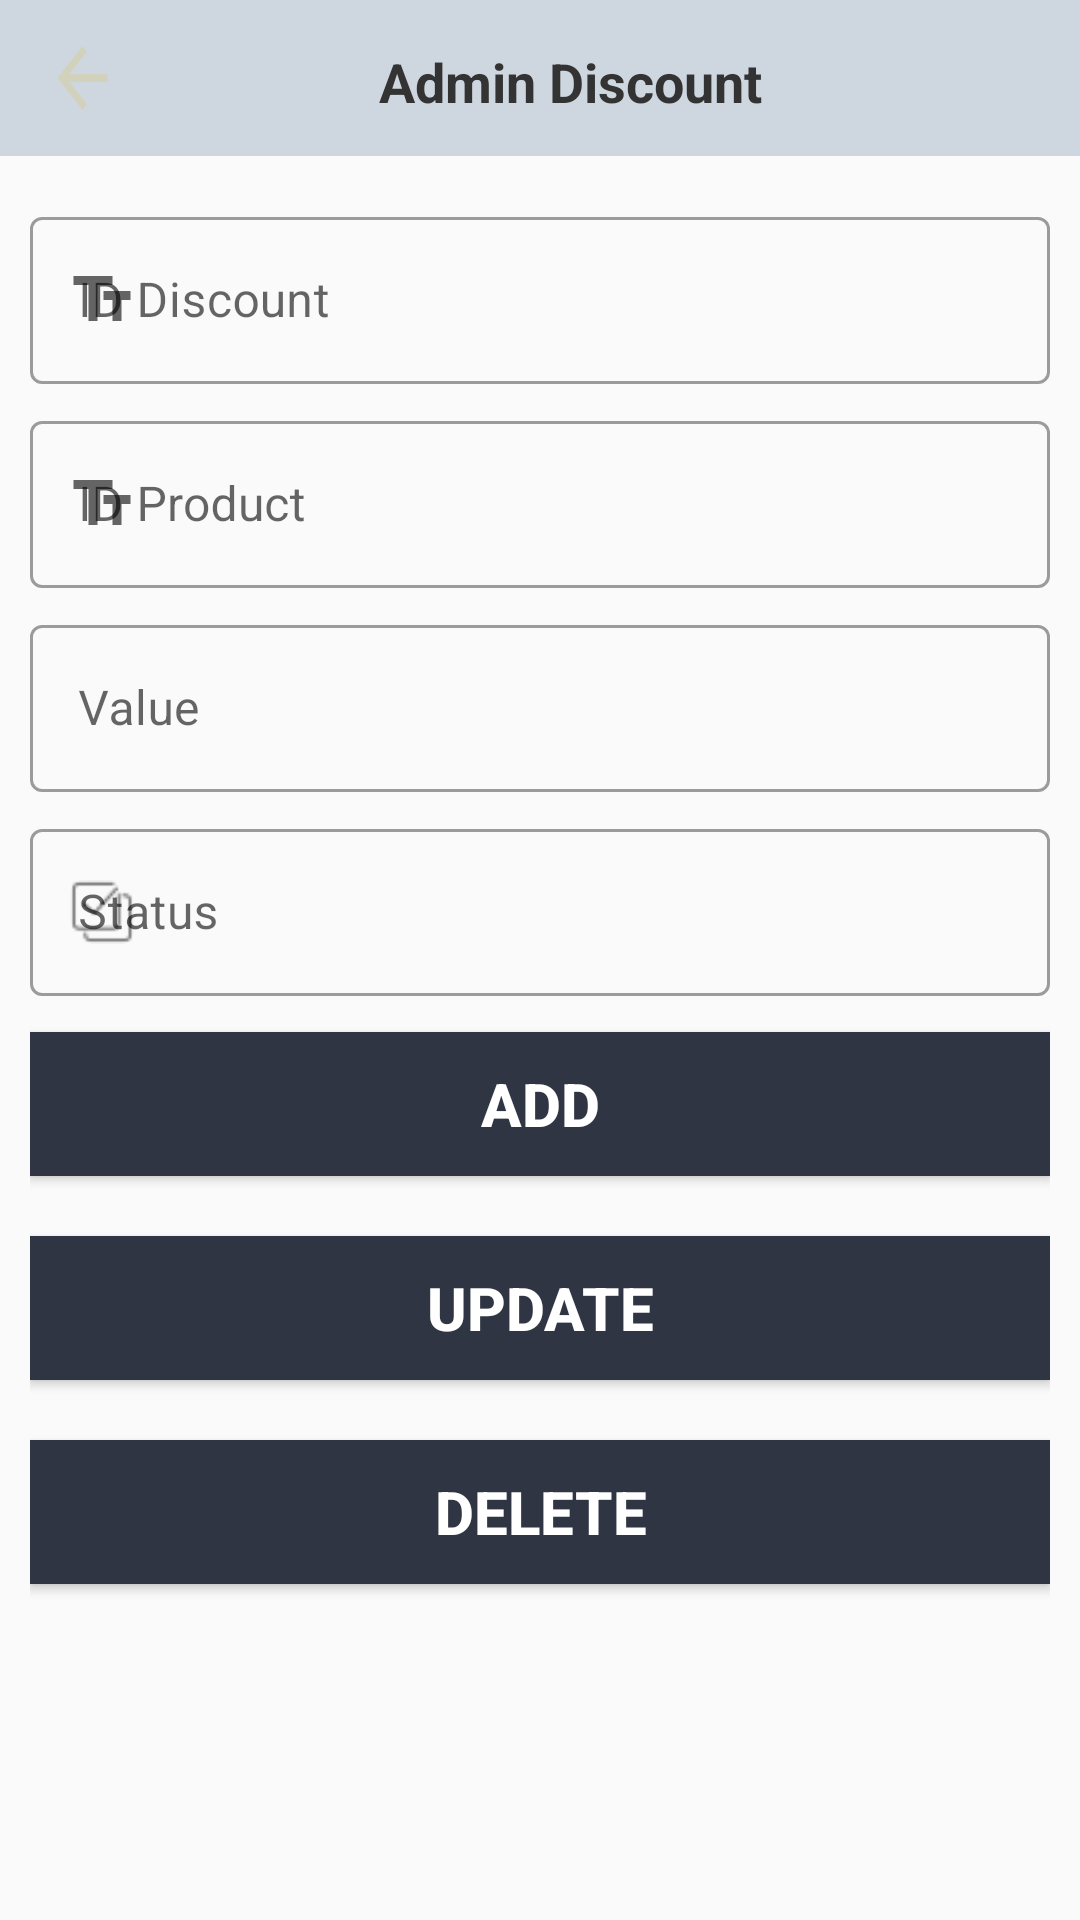

Locate icon controls on the screen. Image size 1080px×1920px, boxes as detection(x1, y1, x2, y2).
arrow back: detection(58, 46, 107, 110)
